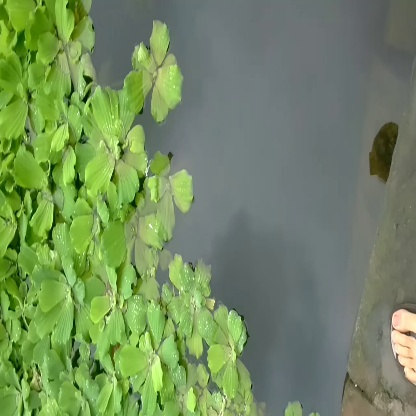leaf: (130, 26, 186, 122)
